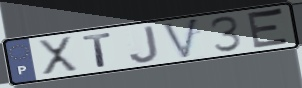3: (209, 15, 244, 54)
E: (246, 6, 292, 51)
J: (127, 24, 161, 65)
T: (80, 31, 114, 69)
V: (161, 16, 201, 61)
X: (36, 34, 81, 76)
